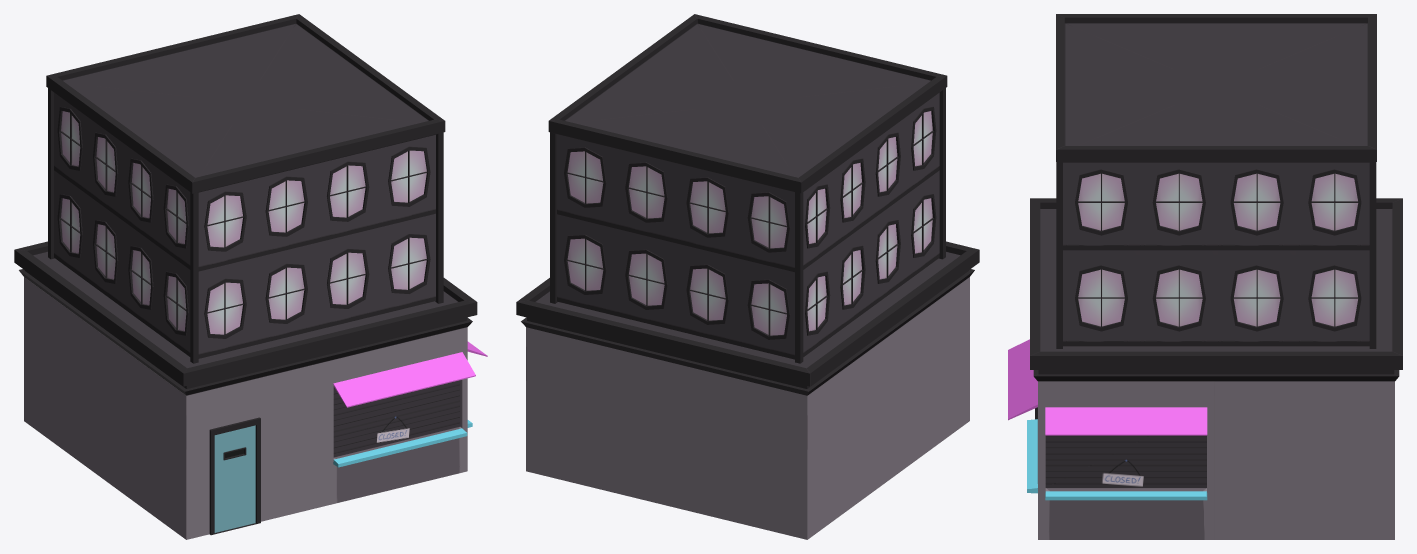
Rendered from building_01.fbx.
3 renders of one model, left to right at view 1: azimuth 30°, elevation 25°; view 2: azimuth 150°, elevation 25°; view 3: azimuth 270°, elevation 25°, orthographic. The views are drawn at different scales.
Visible parts, largest first — view 1: polySurface57; view 2: polySurface57; view 3: polySurface57.
Part boxes in pixels (x1,y1,x2,y2): polySurface57: (14, 14, 487, 539); polySurface57: (516, 14, 979, 539); polySurface57: (1008, 14, 1402, 539).
Bounding box in the file's own units: 83.68 × 89.51 × 83.68.
1 material, 1 textured.
